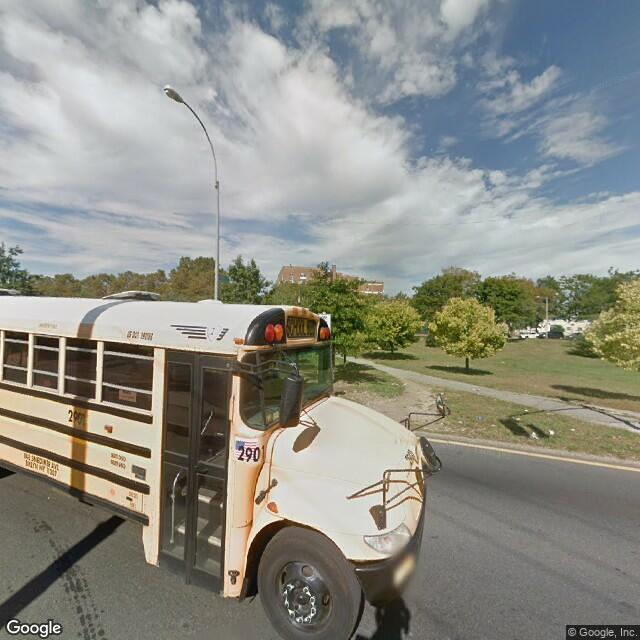litter: (544, 421, 562, 445), (523, 428, 541, 448), (521, 403, 532, 420), (568, 425, 584, 435)
